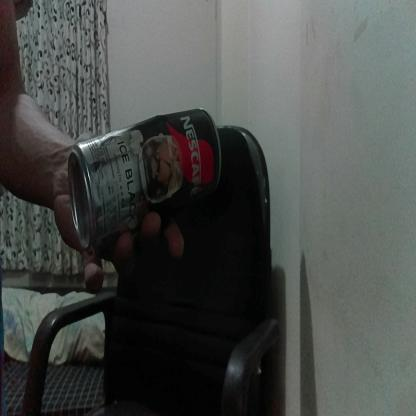alumunium_can: (67, 102, 219, 244)
